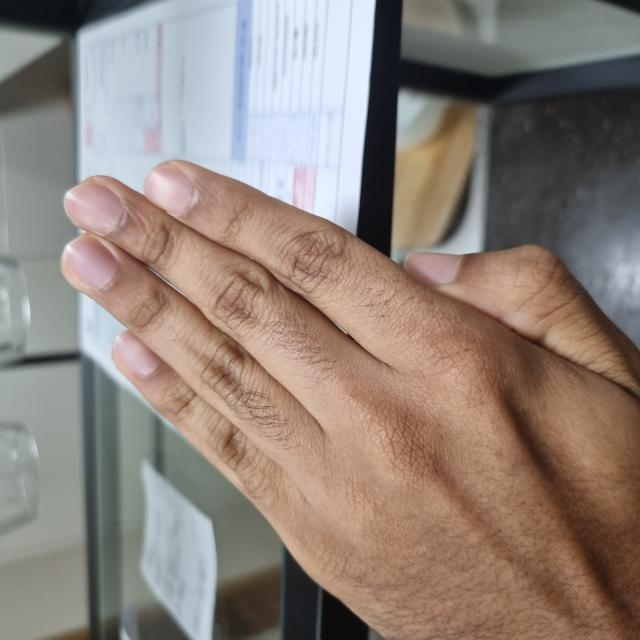Paper: (1, 61, 478, 639)
